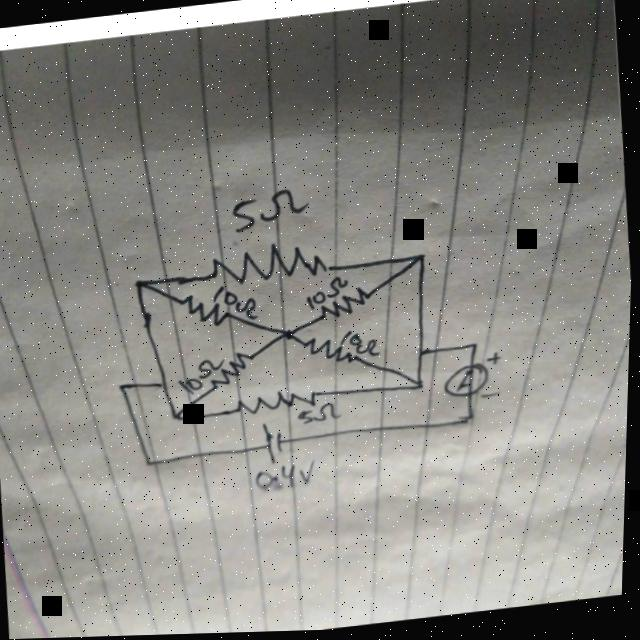junction: (410, 246, 429, 268), (409, 375, 428, 397), (155, 373, 174, 394), (143, 450, 162, 471), (464, 337, 483, 358), (132, 273, 150, 295), (117, 376, 135, 398), (280, 323, 298, 345), (169, 405, 187, 426), (413, 343, 431, 364), (460, 409, 478, 430)
resistor: (206, 237, 335, 289), (236, 386, 320, 418), (178, 289, 232, 331), (302, 331, 360, 370), (319, 284, 375, 323), (209, 350, 257, 391)
source: (261, 419, 286, 468)
text: (229, 183, 312, 236), (212, 279, 260, 325), (254, 459, 318, 492), (176, 355, 228, 395), (337, 325, 384, 364), (303, 275, 352, 312), (298, 400, 344, 427)
